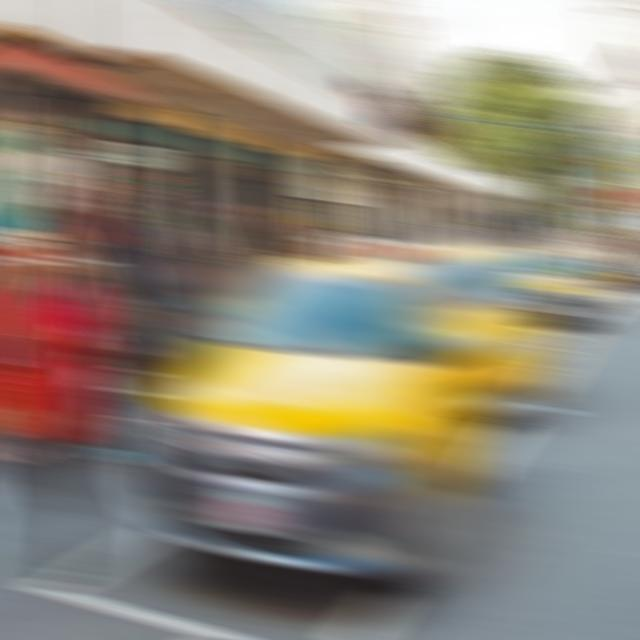Door: (408, 227, 547, 421), (512, 245, 595, 329)
Taxi: (137, 259, 489, 590)
